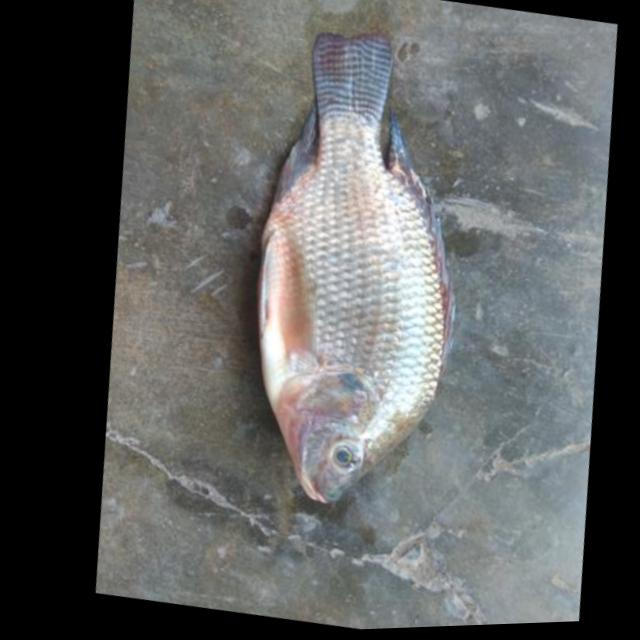Tilapia: (193, 12, 525, 529)
